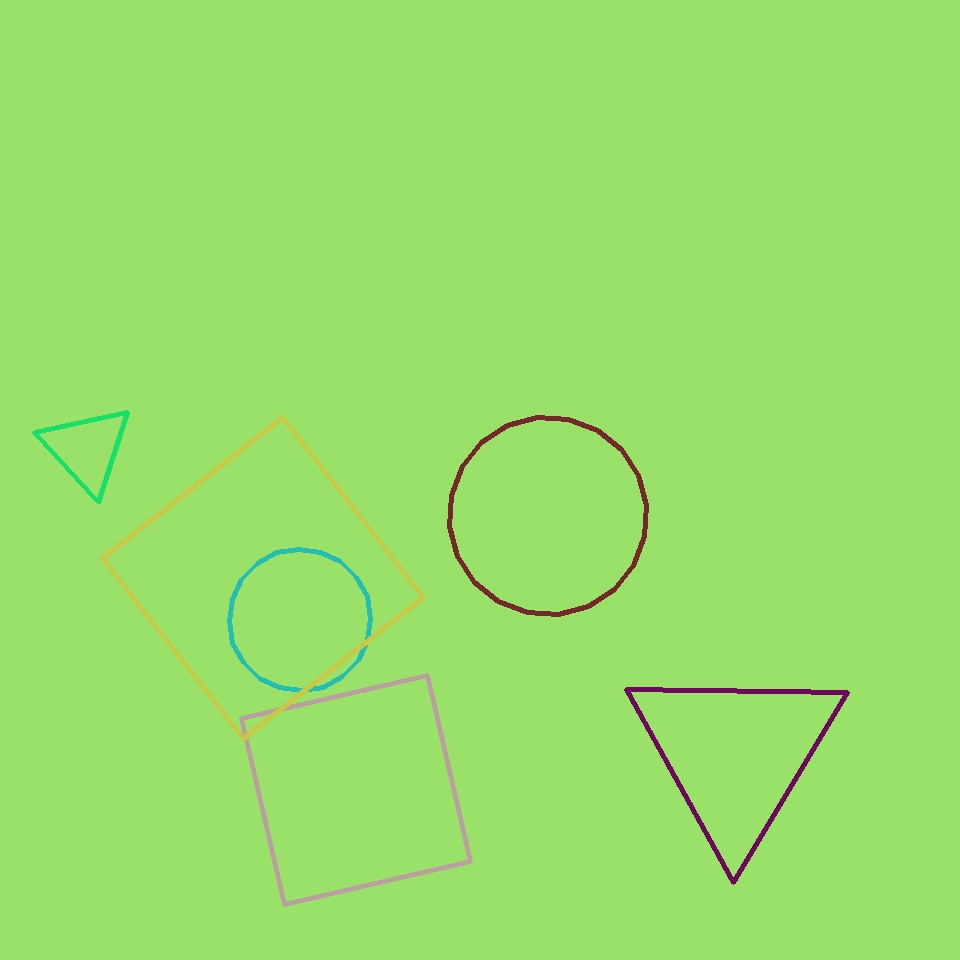circle: (626, 659, 846, 852), (40, 404, 134, 494)
square: (103, 418, 424, 738), (242, 676, 470, 904)
triangle: (450, 418, 646, 614), (230, 550, 370, 691)
